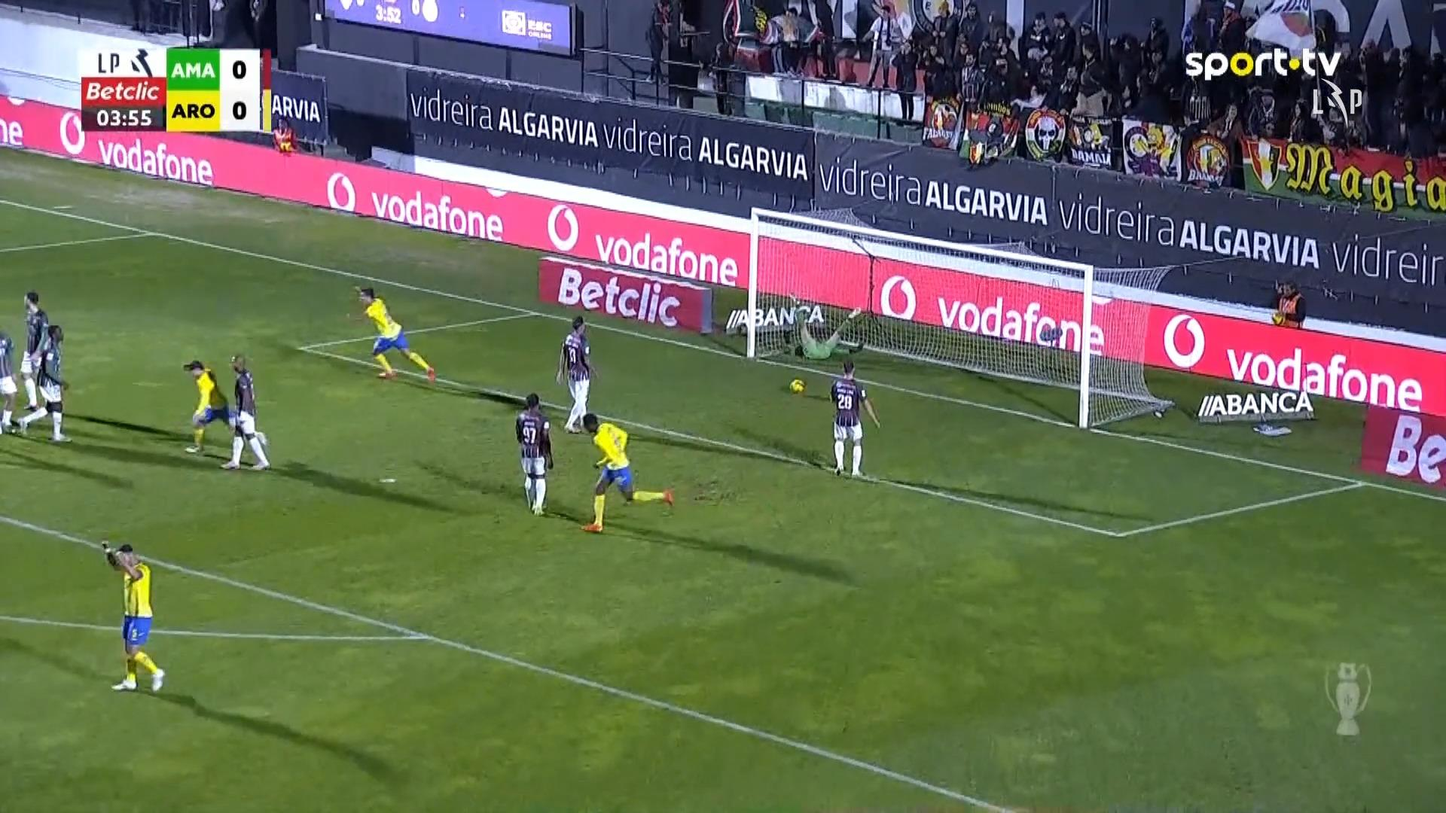ball: (1280, 11, 1311, 37), (789, 378, 804, 393)
goalkeeper: (797, 305, 863, 361)
player: (579, 412, 674, 533), (100, 540, 166, 693), (353, 284, 436, 384), (13, 324, 72, 443), (828, 359, 880, 478), (219, 352, 270, 470), (182, 359, 239, 455), (554, 315, 597, 434), (514, 392, 554, 516), (17, 290, 50, 413), (0, 330, 20, 434)
